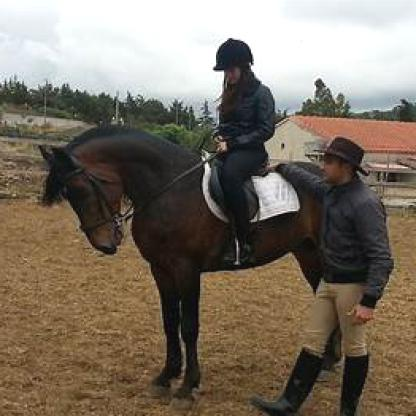horse: (38, 127, 326, 401)
